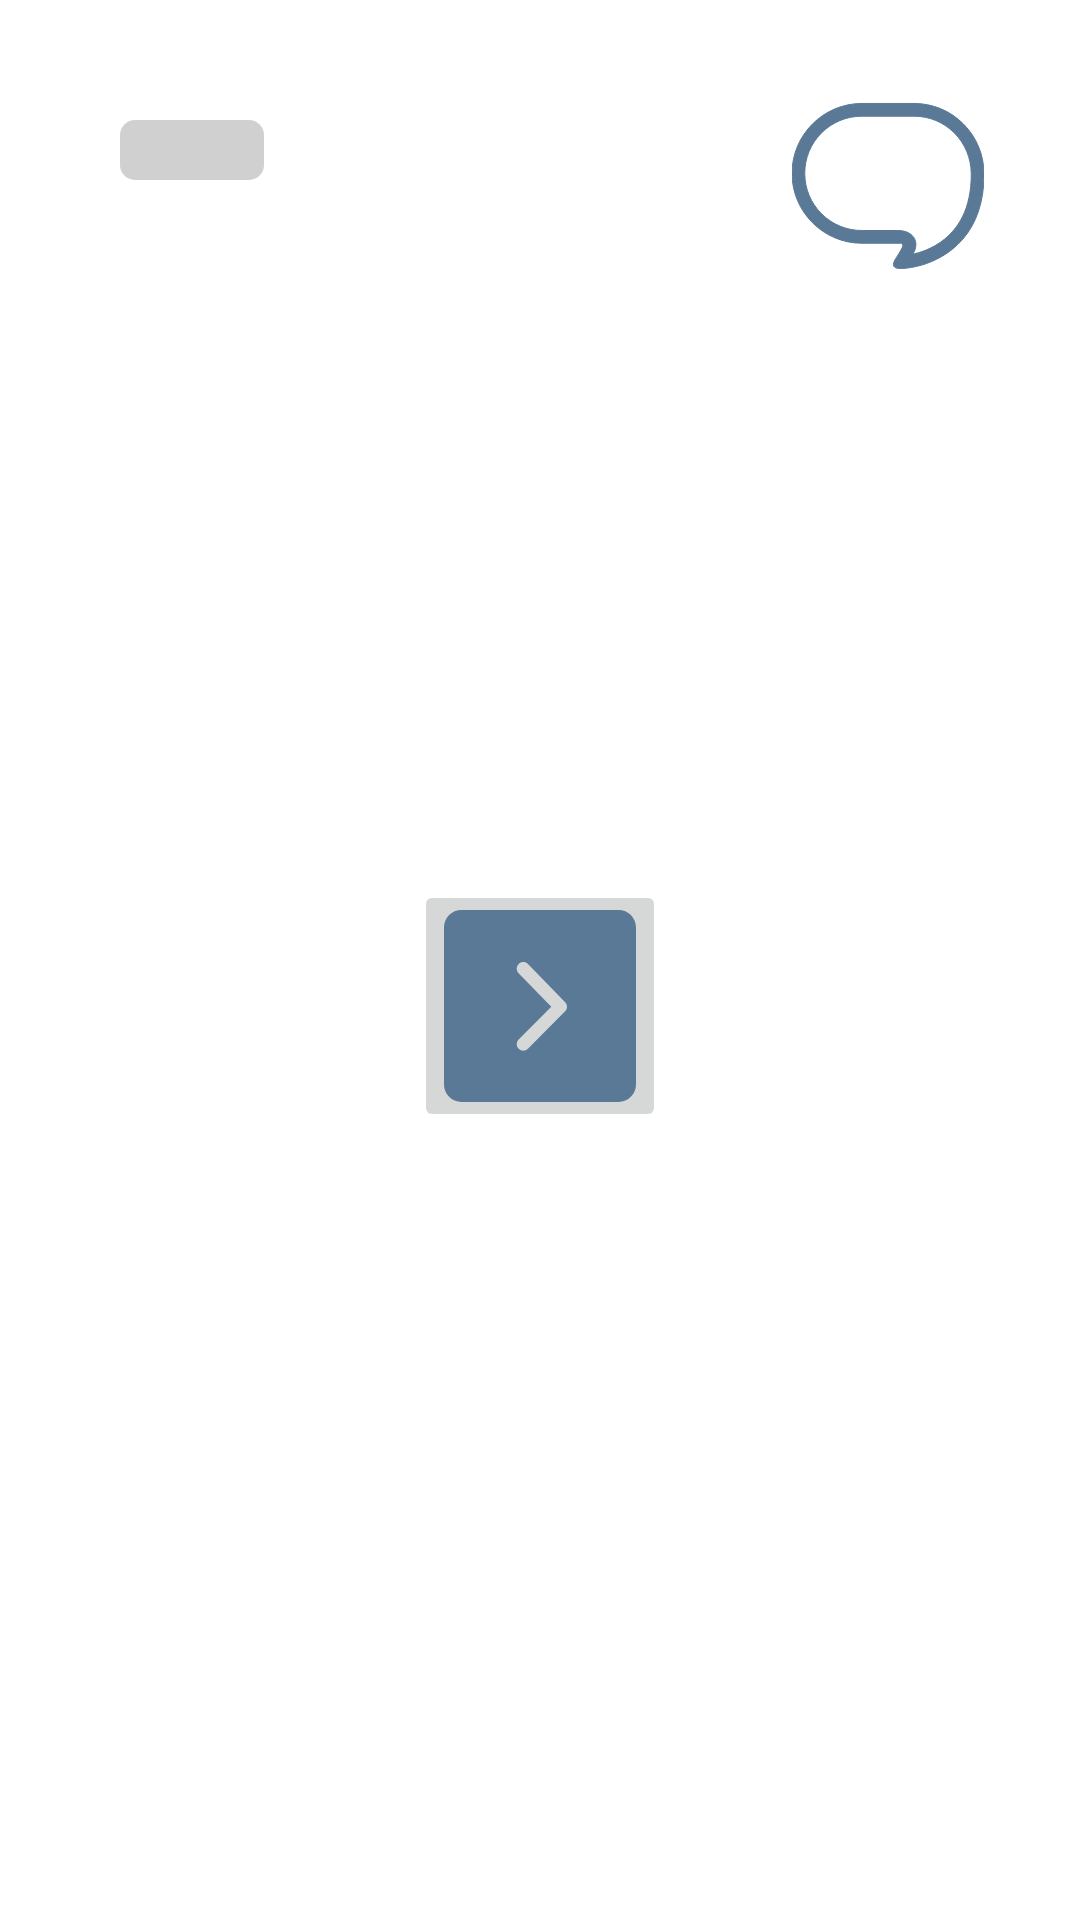

Point at icon controls on the screen. Image size 1080x1920, points as (x=x, y=y).
next: (x=540, y=1006)
